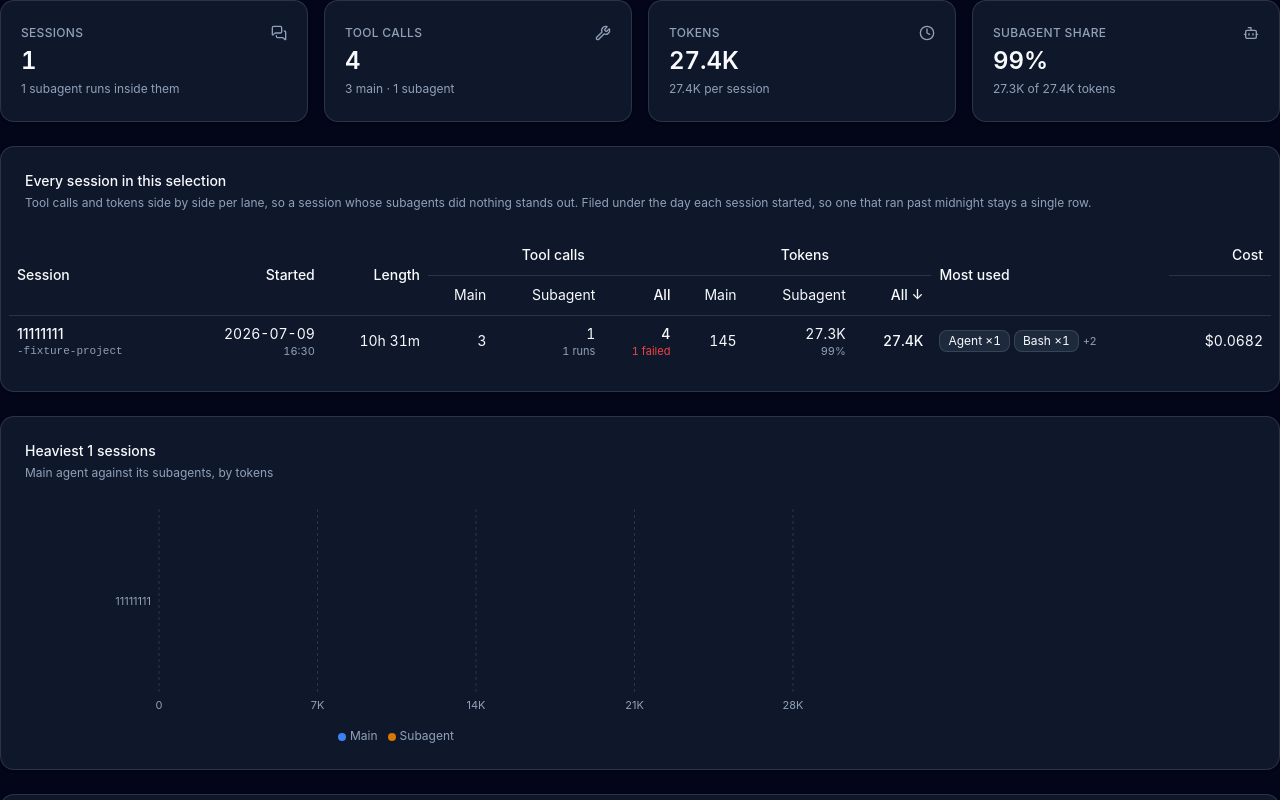
Sessions detail dialog › flags unpriced tokens instead of implying the cost is complete
What coordinates should you click on to do the following:
click the row that starts with "-fixture-project"
I would click on:
 (640, 341)
Its box is [9,315,1271,367].
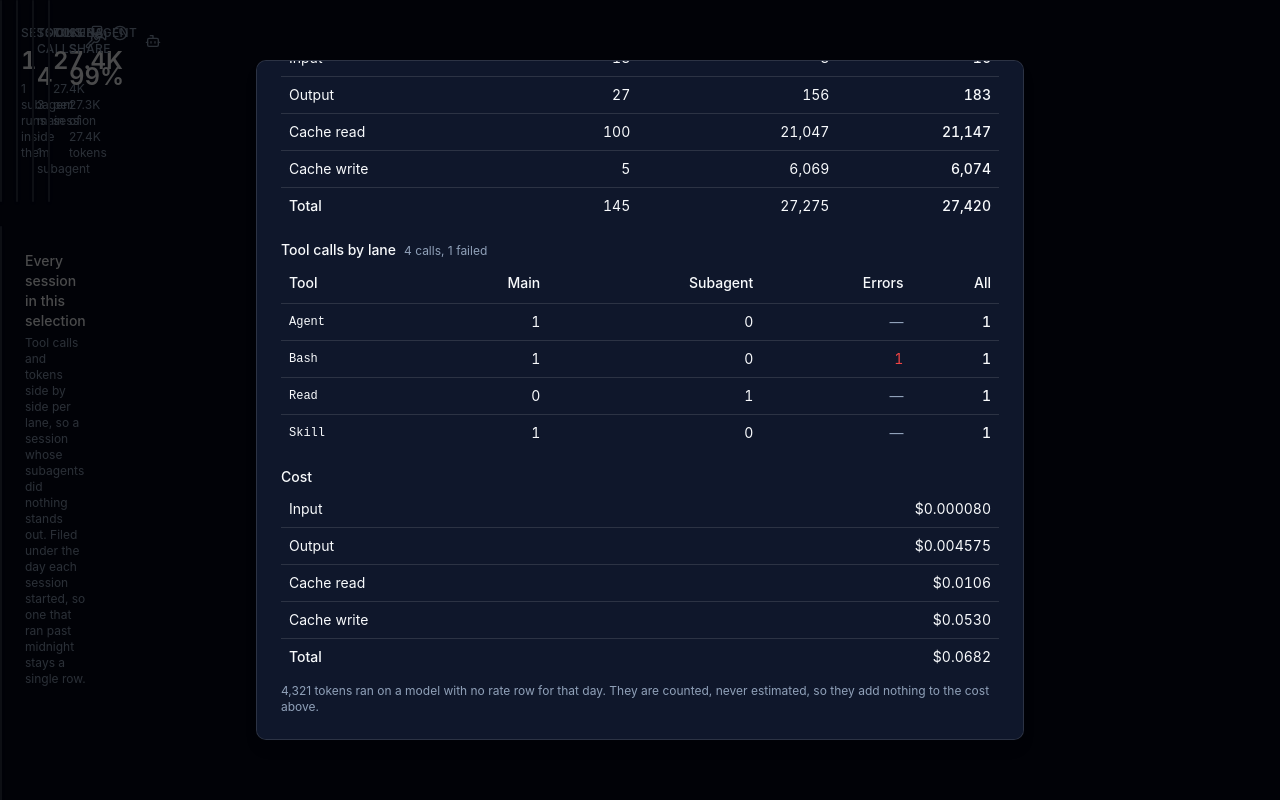
Expected: the text "4,321 tokens ran on a model" is shown, [281,683,999,715]
